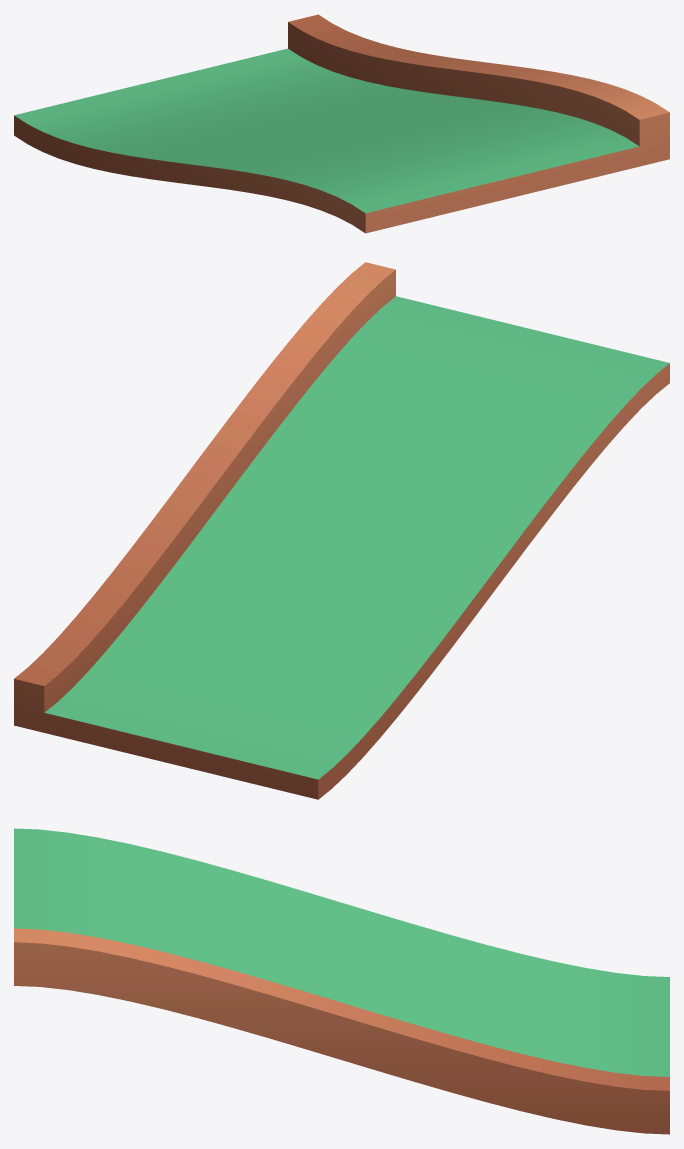
Rendered from ramp-large-side.glb.
3 renders of one model, top to bottom at view 1: azimuth 30°, elevation 25°; view 2: azimuth 150°, elevation 25°; view 3: azimuth 270°, elevation 25°, orthographic. The views are drawn at different scales.
Parts seen in each view (by area): view 1: ramp-large-side; view 2: ramp-large-side; view 3: ramp-large-side.
Boxes of the visible parts, x1,y1,x2,y2 form: ramp-large-side: [14, 14, 669, 233]; ramp-large-side: [14, 262, 669, 799]; ramp-large-side: [14, 828, 669, 1134].
Size of the model in its own units: 1 by 0.6467 by 2.
Materials: 1 (1 with a texture image).
